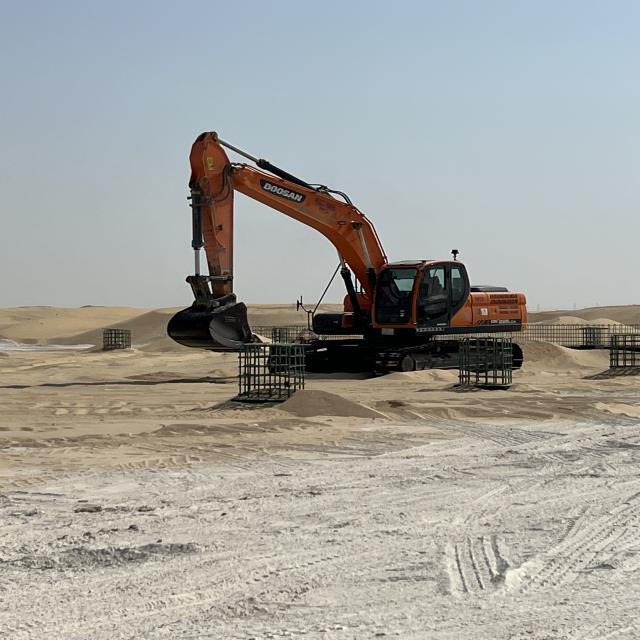Excavator: (167, 129, 527, 374)
